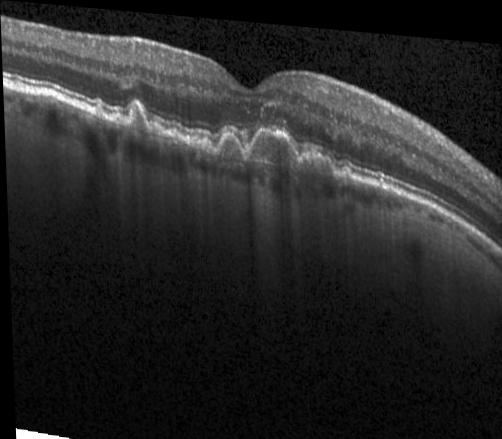retinal_drusen: (247, 125, 295, 162), (297, 151, 331, 172), (217, 129, 242, 156), (128, 101, 146, 131), (189, 134, 210, 147), (165, 125, 181, 137), (91, 104, 103, 117), (340, 161, 350, 173), (112, 111, 120, 123)
